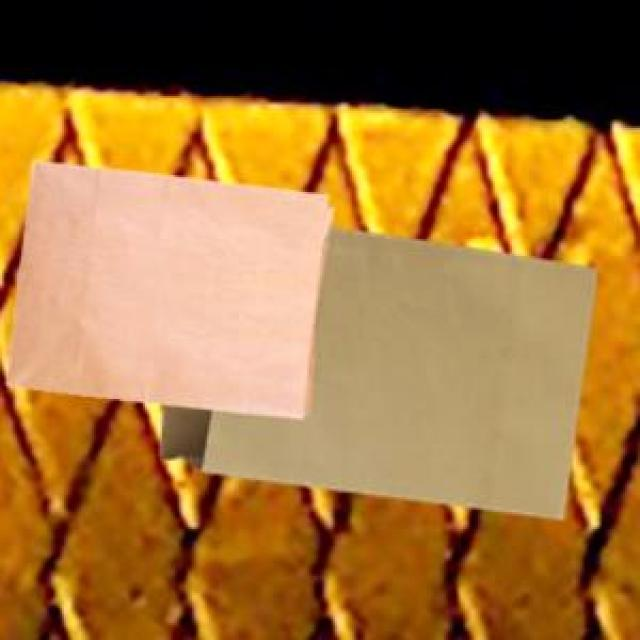Paper_Bag: (156, 225, 594, 515), (3, 159, 330, 415)
